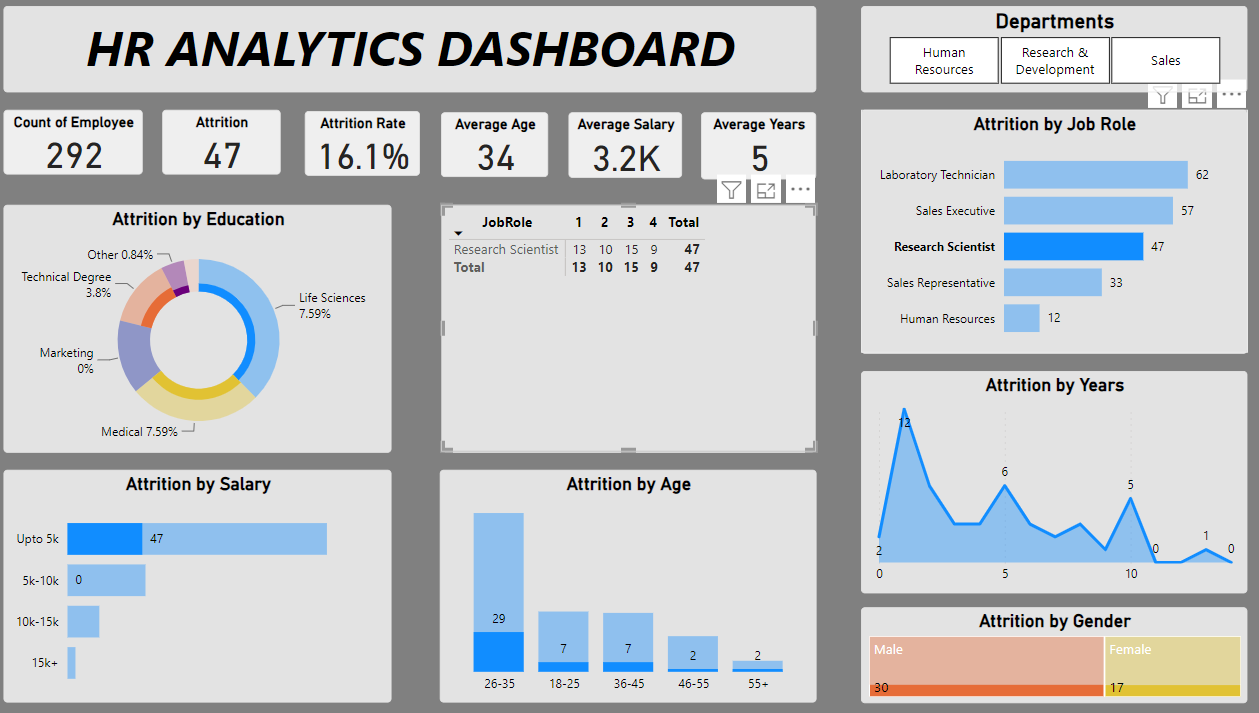

What the dashboard file says about the page in this screenshot:
{"tool":"powerbi","page":{"name":"Page 1","canvas":[1280,720],"ordinal":0},"visuals":[{"type":"card","title":"Count of Employee","fields":{"Values":["CountNonNull(HR_Analytics.EmpID)"]},"box":[17,113.8,139.4,64.9],"z":0},{"type":"card","title":"Attrition","fields":{"Values":["Sum(HR_Analytics.AttritionCount)"]},"box":[176.6,113.8,118.1,64.9],"z":1000},{"type":"card","title":"Attrition Rate","fields":{"Values":["HR_Analytics.AttritionRate"]},"box":[319.1,114.9,114.9,64.9],"z":2000},{"type":"card","title":"Average Age ","fields":{"Values":["Avg(HR_Analytics.Age)"]},"box":[455.3,116,107.4,64.9],"z":3000},{"type":"card","title":"Average Salary","fields":{"Values":["Avg(HR_Analytics.MonthlyIncome)"]},"box":[583,116,113.8,66],"z":4000},{"type":"card","title":"Average Years ","fields":{"Values":["Avg(HR_Analytics.YearsAtCompany)"]},"box":[714.9,116,114.9,67],"z":5000},{"type":"donutChart","title":"Attrition by Education","fields":{"Category":["HR_Analytics.EducationField"],"Y":["Sum(HR_Analytics.AttritionCount)"]},"box":[17,208.5,388.3,247.9],"z":6000},{"type":"columnChart","title":"Attrition by Age","fields":{"Category":["HR_Analytics.AgeGroup"],"Y":["Sum(HR_Analytics.AttritionCount)"]},"box":[453.2,473.4,376.6,233],"z":7000},{"type":"pivotTable","fields":{"Rows":["HR_Analytics.JobRole"],"Columns":["HR_Analytics.JobSatisfaction"],"Values":["Sum(HR_Analytics.AttritionCount)"]},"box":[455.3,208.5,374.5,247.9],"z":8000},{"type":"barChart","title":"Attrition by Salary","fields":{"Category":["HR_Analytics.SalarySlab"],"Y":["Sum(HR_Analytics.AttritionCount)"]},"box":[17,473.4,388.3,233],"z":9000},{"type":"barChart","title":"Attrition by Job Role","fields":{"Category":["HR_Analytics.JobRole"],"Y":["Sum(HR_Analytics.AttritionCount)"]},"box":[875.5,113.8,386.2,243.6],"z":10000},{"type":"areaChart","title":"Attrition by Years","fields":{"Category":["HR_Analytics.YearsAtCompany"],"Y":["Sum(HR_Analytics.AttritionCount)"]},"box":[875,375,386.2,222.5],"z":11000},{"type":"treemap","title":"Attrition by Gender","fields":{"Group":["HR_Analytics.Gender"],"Values":["Sum(HR_Analytics.AttritionCount)"]},"box":[875.5,610.6,386.2,95.7],"z":12000},{"type":"slicer","title":"Departments","fields":{"Values":["HR_Analytics.Department"]},"box":[875.5,9.6,386.2,86.2],"z":13000},{"type":"textbox","box":[17,9.6,812.8,86.2],"z":14000}]}

Visuals, with their boxes in screenshot pixels (x1, y1, x2, y2), scaled from the page's 1280x720 canvas onto the 1259x713 screenshot:
"Count of Employee" card: x1=17 y1=113 x2=154 y2=177
"Attrition" card: x1=174 y1=113 x2=290 y2=177
"Attrition Rate" card: x1=314 y1=114 x2=427 y2=178
"Average Age " card: x1=448 y1=115 x2=553 y2=179
"Average Salary" card: x1=573 y1=115 x2=685 y2=180
"Average Years " card: x1=703 y1=115 x2=816 y2=181
"Attrition by Education" donutChart: x1=17 y1=206 x2=399 y2=452
"Attrition by Age" columnChart: x1=446 y1=469 x2=816 y2=700
pivotTable - HR_Analytics.JobRole x HR_Analytics.JobSatisfaction: x1=448 y1=206 x2=816 y2=452
"Attrition by Salary" barChart: x1=17 y1=469 x2=399 y2=700
"Attrition by Job Role" barChart: x1=861 y1=113 x2=1241 y2=354
"Attrition by Years" areaChart: x1=861 y1=371 x2=1241 y2=592
"Attrition by Gender" treemap: x1=861 y1=605 x2=1241 y2=699
"Departments" slicer: x1=861 y1=10 x2=1241 y2=95
textbox: x1=17 y1=10 x2=816 y2=95
